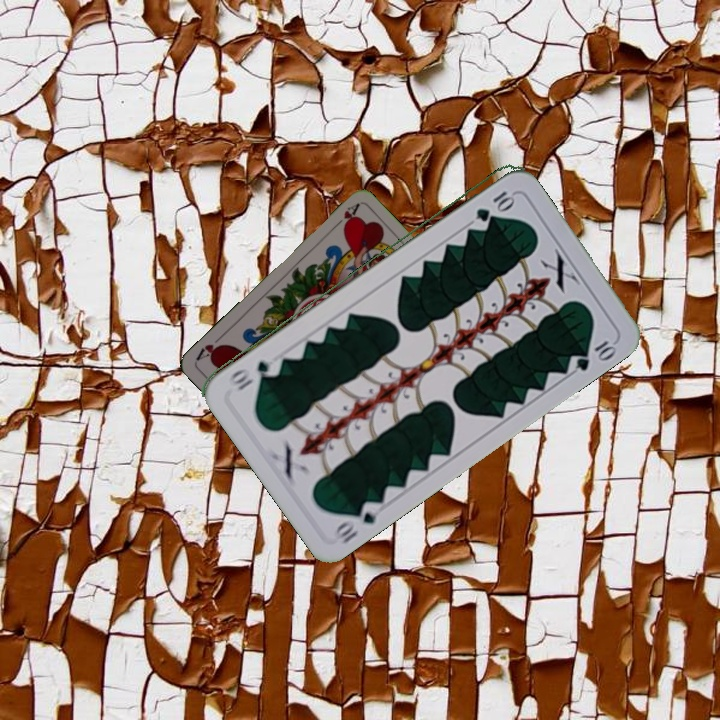G10: (331, 496, 384, 547), (471, 186, 515, 223)
HA: (328, 200, 362, 232)
